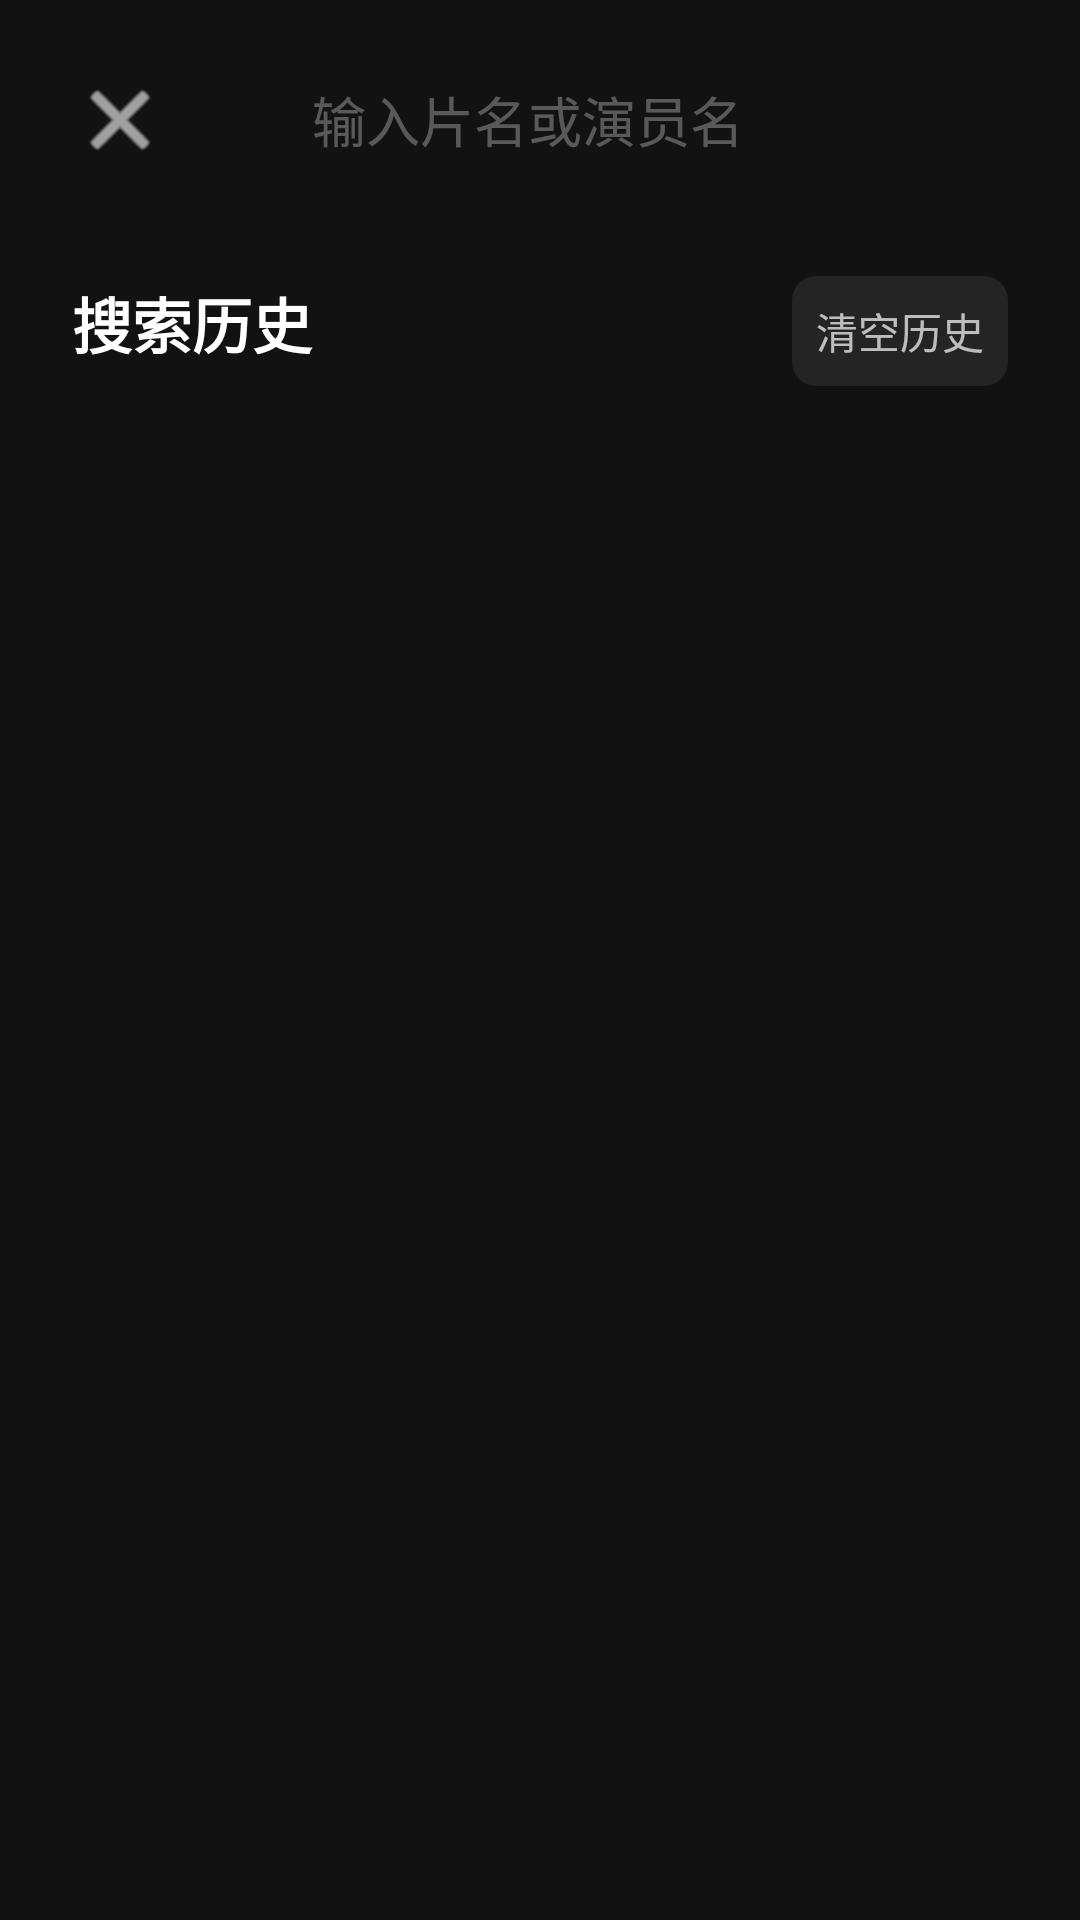

Named icons in this screenshot (1080px x 1920px) and their bounding boxes, (x1, y1, x2, y2):
close clear cancel: (90, 90, 150, 150)
